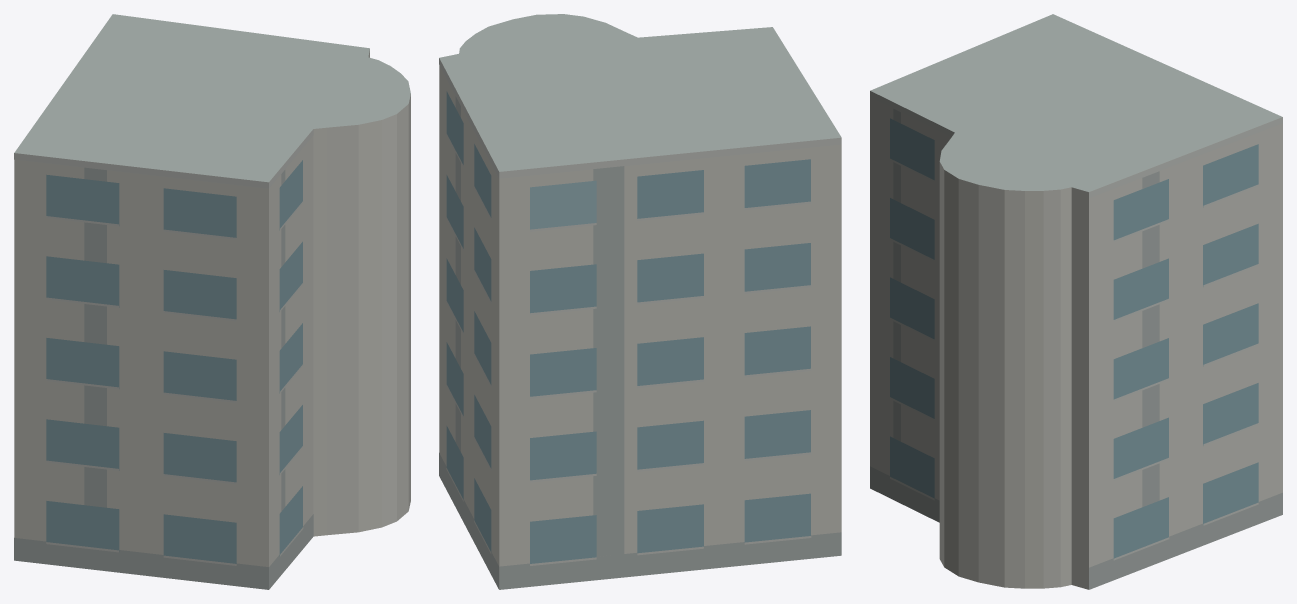
The model's file is survey-upis-32798648.glb.
3 renders of one model, left to right at view 1: azimuth 30°, elevation 25°; view 2: azimuth 150°, elevation 25°; view 3: azimuth 270°, elevation 25°, orthographic. The views are drawn at different scales.
Parts seen in each view (by area): view 1: survey-upis-32798648.tmp; view 2: survey-upis-32798648.tmp; view 3: survey-upis-32798648.tmp.
Part boxes in pixels (<box>): survey-upis-32798648.tmp: <box>14,14,410,589</box>; survey-upis-32798648.tmp: <box>439,14,841,589</box>; survey-upis-32798648.tmp: <box>870,14,1282,589</box>.
Size of the model in its own units: 14.66 by 15.25 by 14.35.
